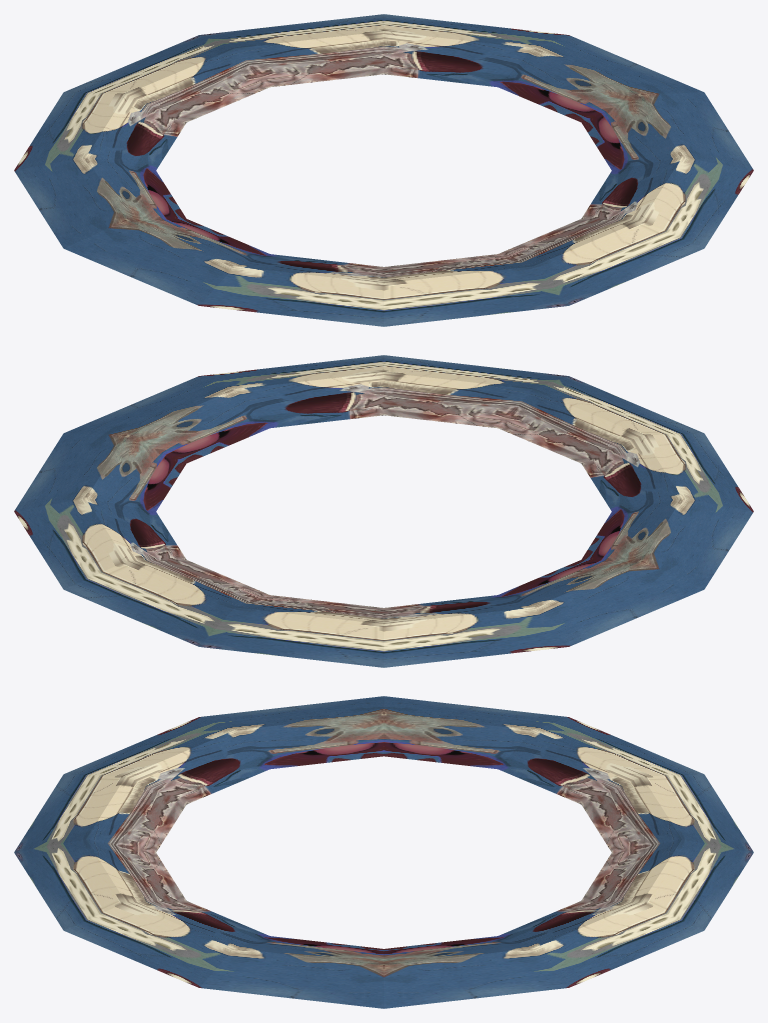
Rendered from Whale_halo.obj.
3 views of the same model, one above another, from view 1: azimuth 30°, elevation 25°; view 2: azimuth 150°, elevation 25°; view 3: azimuth 270°, elevation 25° (orthographic).
Parts seen in each view (by area): view 1: Whale_halo_tri; view 2: Whale_halo_tri; view 3: Whale_halo_tri.
Boxes of the visible parts, x1,y1,x2,y2 form: Whale_halo_tri: [14, 14, 753, 326]; Whale_halo_tri: [14, 355, 753, 667]; Whale_halo_tri: [14, 696, 753, 1008].
Size of the model in its own units: 0.3673 by 0.0144 by 0.3673.
Materials: 1 (1 with a texture image).
